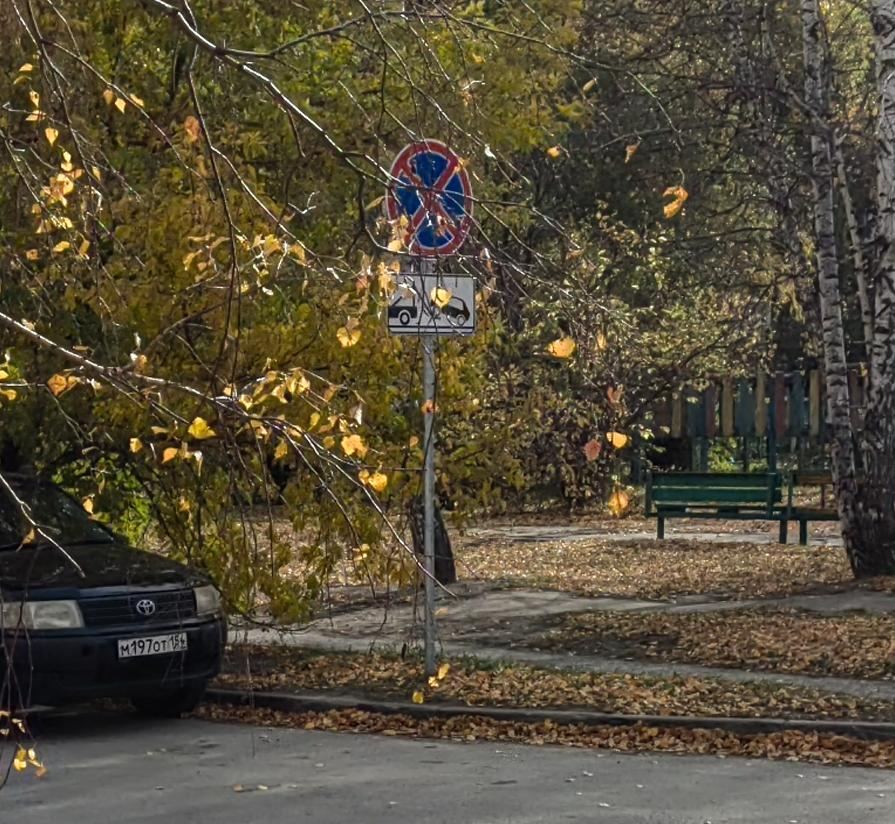obstructed_road_sign: (388, 139, 472, 256), (385, 274, 475, 335)
